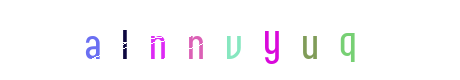A: (53, 0, 133, 80)
L: (85, 0, 165, 80)
N: (161, 0, 241, 80), (189, 0, 269, 80)
Q: (301, 0, 381, 80)
U: (270, 0, 350, 80)
V: (190, 0, 270, 80)
Y: (216, 0, 296, 80)
